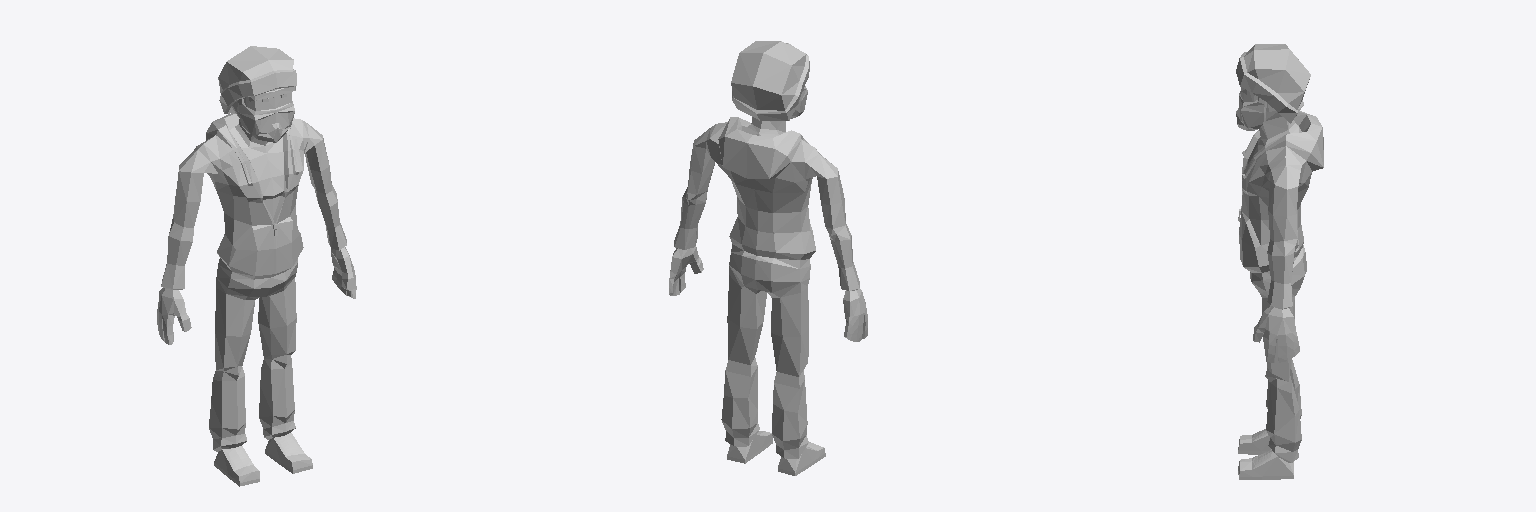
The model's file is man_hoodie_standing.obj.
3 views of the same model, side by side, from view 1: azimuth 30°, elevation 25°; view 2: azimuth 150°, elevation 25°; view 3: azimuth 270°, elevation 25° (orthographic).
Parts seen in each view (by area): view 1: Character_Male_Hoodie_Mesh.030; view 2: Character_Male_Hoodie_Mesh.030; view 3: Character_Male_Hoodie_Mesh.030.
Part boxes in pixels (x1,y1,x2,y2): Character_Male_Hoodie_Mesh.030: (157, 46, 356, 486); Character_Male_Hoodie_Mesh.030: (669, 41, 867, 475); Character_Male_Hoodie_Mesh.030: (1236, 44, 1323, 479).
Size of the model in its own units: 0.8745 by 1.81 by 0.3516.